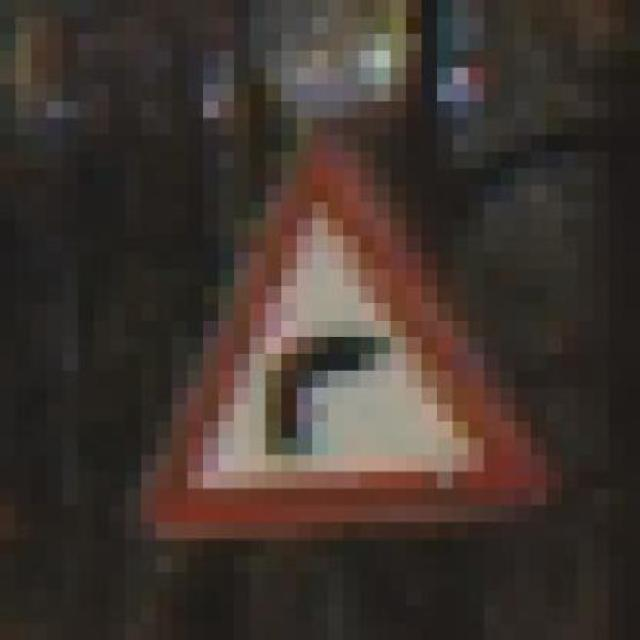Dangerous Rright Curve Ahead: (109, 101, 546, 522)
